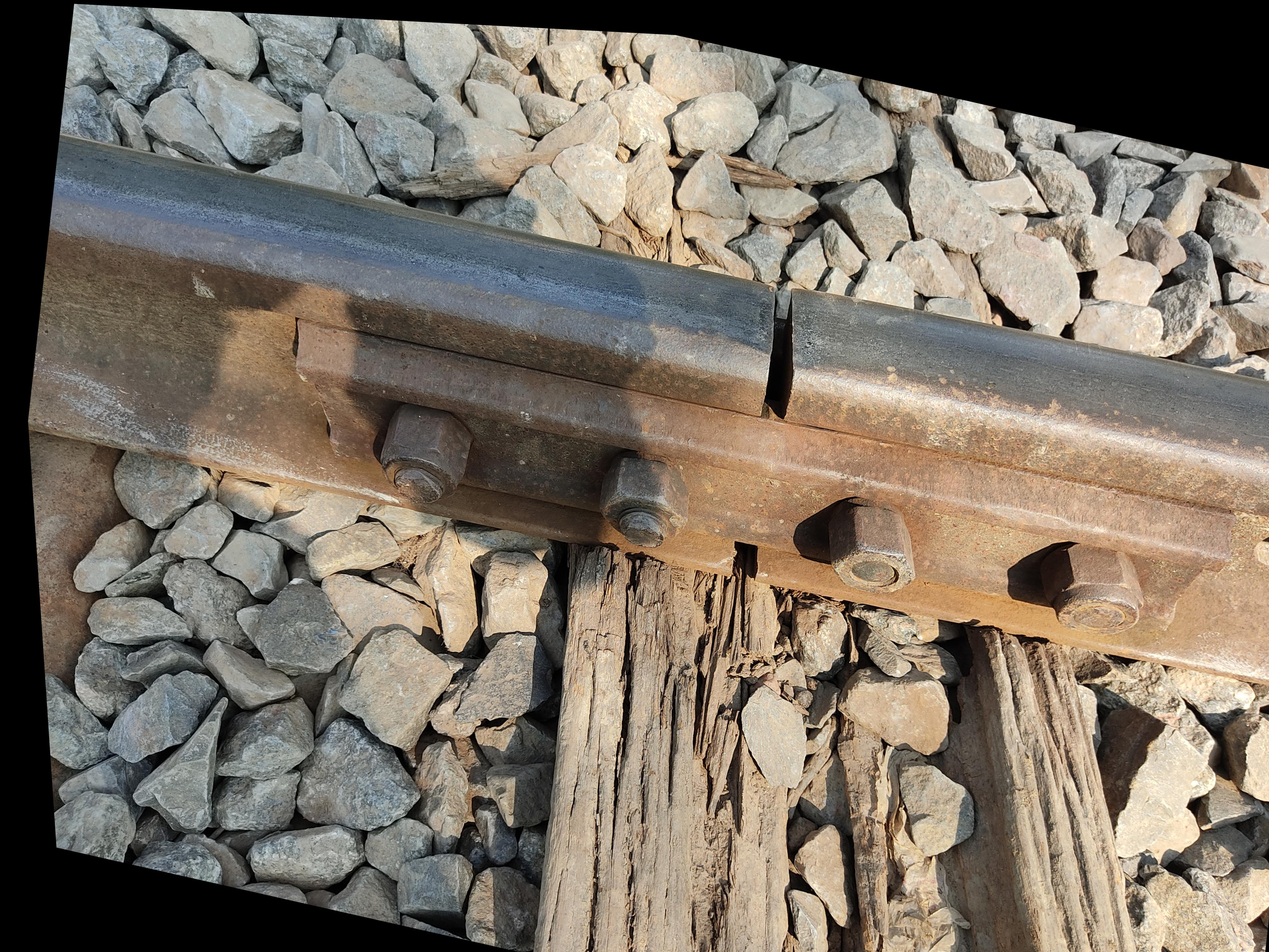person: (703, 108, 1012, 402), (738, 384, 902, 531)
